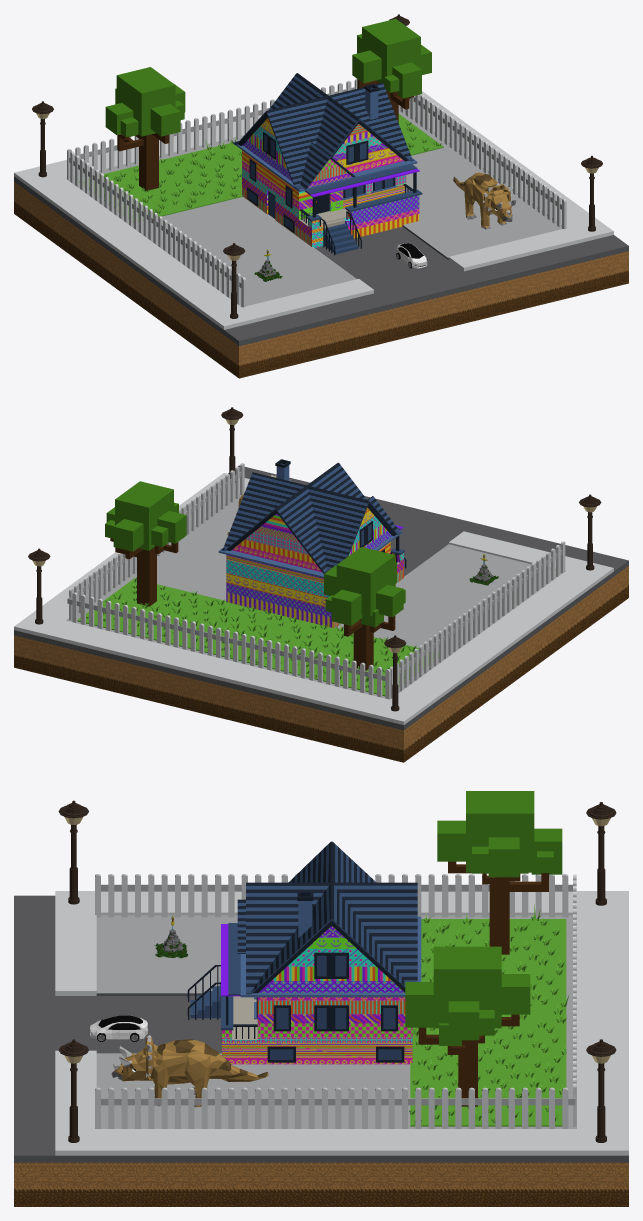
3 renders of one model, top to bottom at view 1: azimuth 30°, elevation 25°; view 2: azimuth 150°, elevation 25°; view 3: azimuth 270°, elevation 25°, orthographic. The views are drawn at different scales.
Visible parts, largest first — view 1: Cube.004, Cube.676, ANIMAL_Triceratops, VEHICLES_TESLA; view 2: Cube.004, Cube.676; view 3: Cube.004, Cube.676, ANIMAL_Triceratops, VEHICLES_TESLA, OBJRANDOM_SWORD_IN_THE_STONE.
Part boxes in pixels (bbox=[...]): Cube.004: bbox=[14, 14, 628, 378]; Cube.676: bbox=[233, 73, 422, 255]; ANIMAL_Triceratops: bbox=[453, 172, 516, 229]; VEHICLES_TESLA: bbox=[396, 243, 427, 268]; Cube.004: bbox=[14, 407, 628, 762]; Cube.676: bbox=[218, 459, 406, 627]; Cube.004: bbox=[14, 791, 628, 1206]; Cube.676: bbox=[187, 841, 421, 1064]; ANIMAL_Triceratops: bbox=[111, 1035, 268, 1107]; VEHICLES_TESLA: bbox=[90, 1015, 148, 1041]; OBJRANDOM_SWORD_IN_THE_STONE: bbox=[154, 915, 187, 958].
Size of the model in its own units: 4000 by 1600 by 4000.
41 materials, 7 textured.
